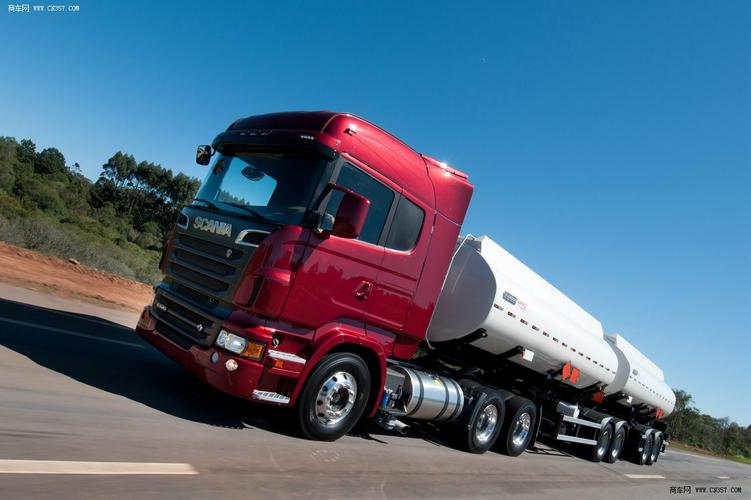卡车: (140, 105, 696, 473)
